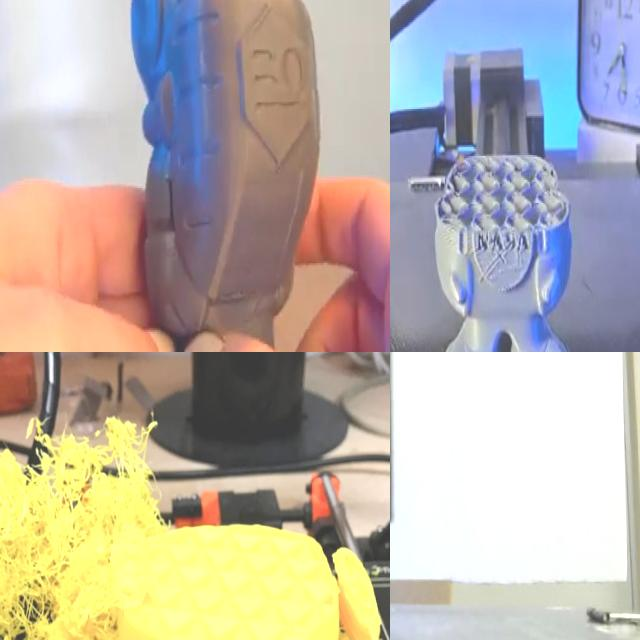spaghetti: (0, 430, 133, 640)
